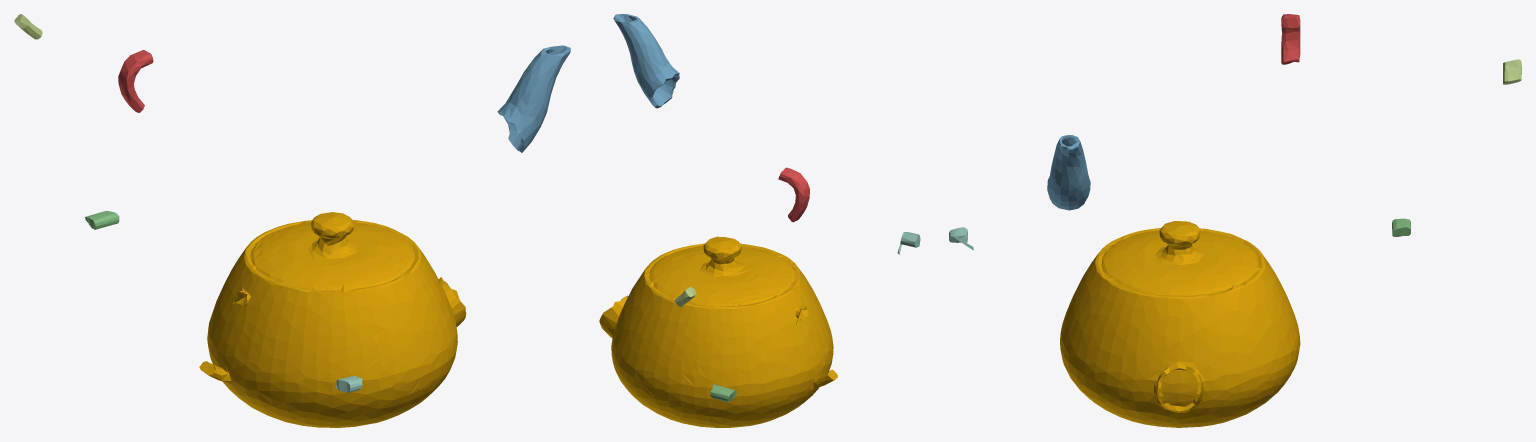
The model's file is fractured_58_6pcs_transformed.glb.
3 renders of one model, left to right at view 1: azimuth 30°, elevation 25°; view 2: azimuth 150°, elevation 25°; view 3: azimuth 270°, elevation 25°, orthographic. The views are drawn at different scales.
Visible parts, largest first — view 1: piece_0.obj, piece_2.obj, piece_1.obj; view 2: piece_0.obj, piece_2.obj, piece_1.obj, piece_3.obj; view 3: piece_0.obj, piece_2.obj, piece_1.obj.
Boxes of the visible parts, bbox=[...] form: piece_0.obj: bbox=[199, 212, 466, 427]; piece_2.obj: bbox=[497, 45, 570, 152]; piece_1.obj: bbox=[118, 50, 153, 112]; piece_0.obj: bbox=[599, 236, 837, 427]; piece_2.obj: bbox=[613, 14, 679, 108]; piece_1.obj: bbox=[778, 167, 809, 222]; piece_3.obj: bbox=[710, 384, 736, 402]; piece_0.obj: bbox=[1060, 221, 1300, 427]; piece_2.obj: bbox=[1047, 135, 1090, 210]; piece_1.obj: bbox=[1281, 14, 1300, 64].
Bounding box in the file's own units: 1 × 0.988 × 1.55.
